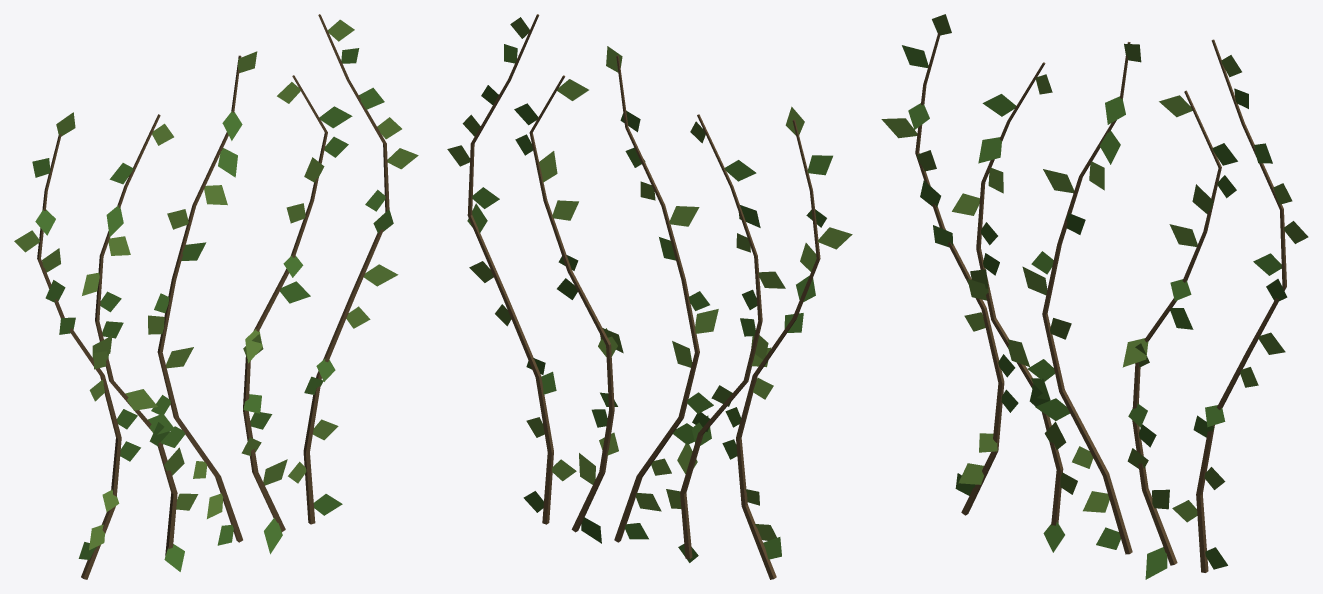
File: vine_wall_idle.glb
3 renders of one model, left to right at view 1: azimuth 30°, elevation 25°; view 2: azimuth 150°, elevation 25°; view 3: azimuth 330°, elevation 25°, orthographic. The views are drawn at different scales.
Visible parts, largest first — view 1: vine_wall; view 2: vine_wall; view 3: vine_wall.
Boxes of the visible parts, <box> form: vine_wall: <box>14,14,418,579</box>; vine_wall: <box>447,14,852,579</box>; vine_wall: <box>881,14,1308,579</box>.
Bounding box in the file's own units: 1.16 × 1.42 × 0.0429.
